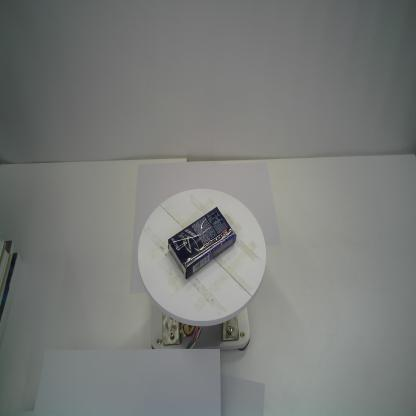Gum: (166, 206, 237, 280)
